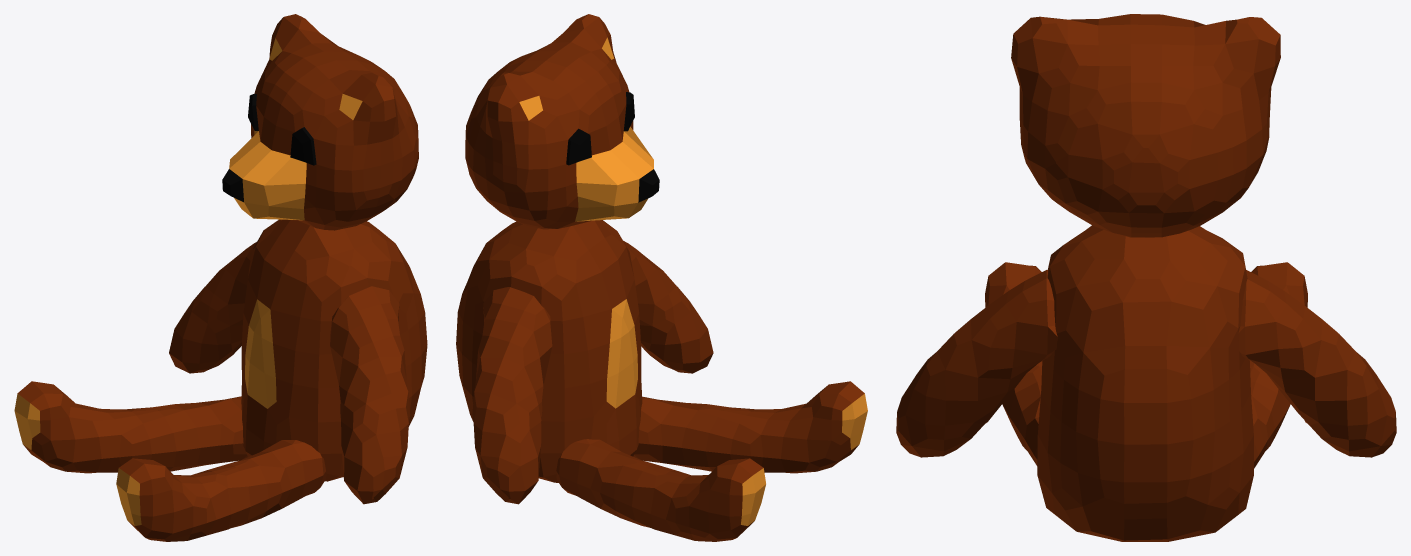
Rendered from osito 1.fbx.
The picture shows the model from 3 angles, left to right: view 1: azimuth 30°, elevation 25°; view 2: azimuth 150°, elevation 25°; view 3: azimuth 270°, elevation 25°; orthographic projection. The views are drawn at different scales.
Parts seen in each view (by area): view 1: osito; view 2: osito; view 3: osito.
Boxes of the visible parts, box(x1,y1,x2,y2) form: osito: box(14, 14, 427, 541); osito: box(456, 14, 867, 541); osito: box(896, 14, 1396, 541).
Size of the model in its own units: 0.4642 by 0.5386 by 0.4664.
